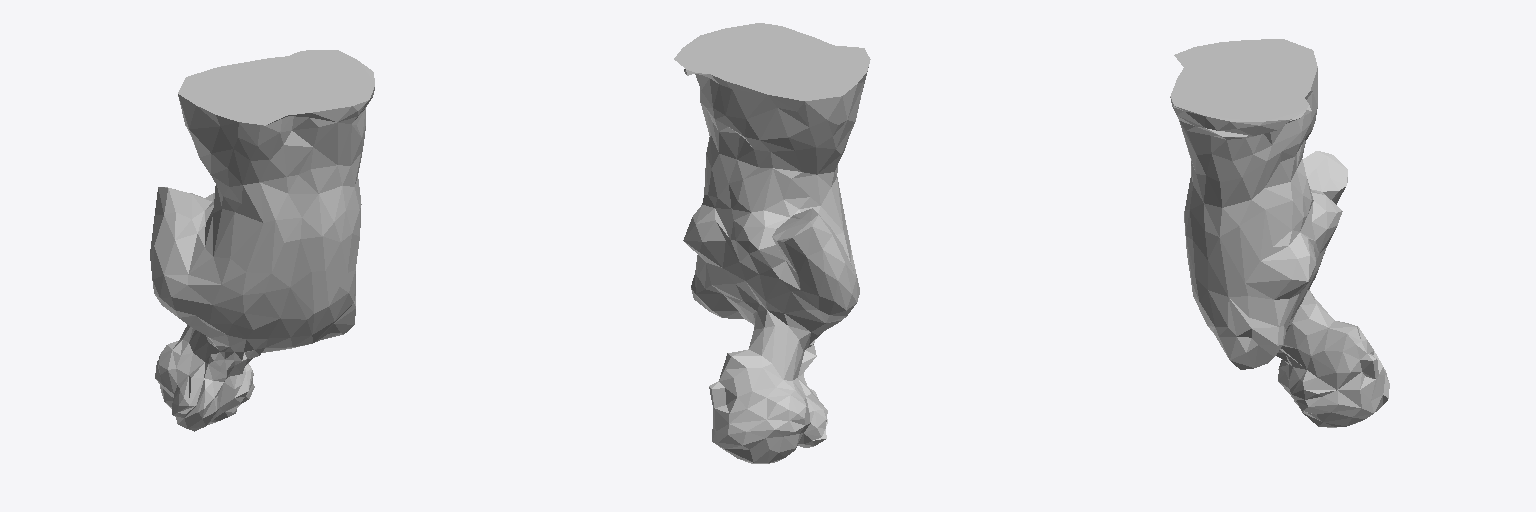
File: venus1000.obj
3 renders of one model, left to right at view 1: azimuth 30°, elevation 25°; view 2: azimuth 150°, elevation 25°; view 3: azimuth 270°, elevation 25°, orthographic.
Parts seen in each view (by area): view 1: STL object; view 2: STL object; view 3: STL object.
Boxes of the visible parts, x1=… form: STL object: x1=150, y1=50, x2=374, y2=431; STL object: x1=674, y1=23, x2=870, y2=463; STL object: x1=1170, y1=39, x2=1389, y2=427.
Size of the model in its own units: 31.77 by 58.17 by 32.19.